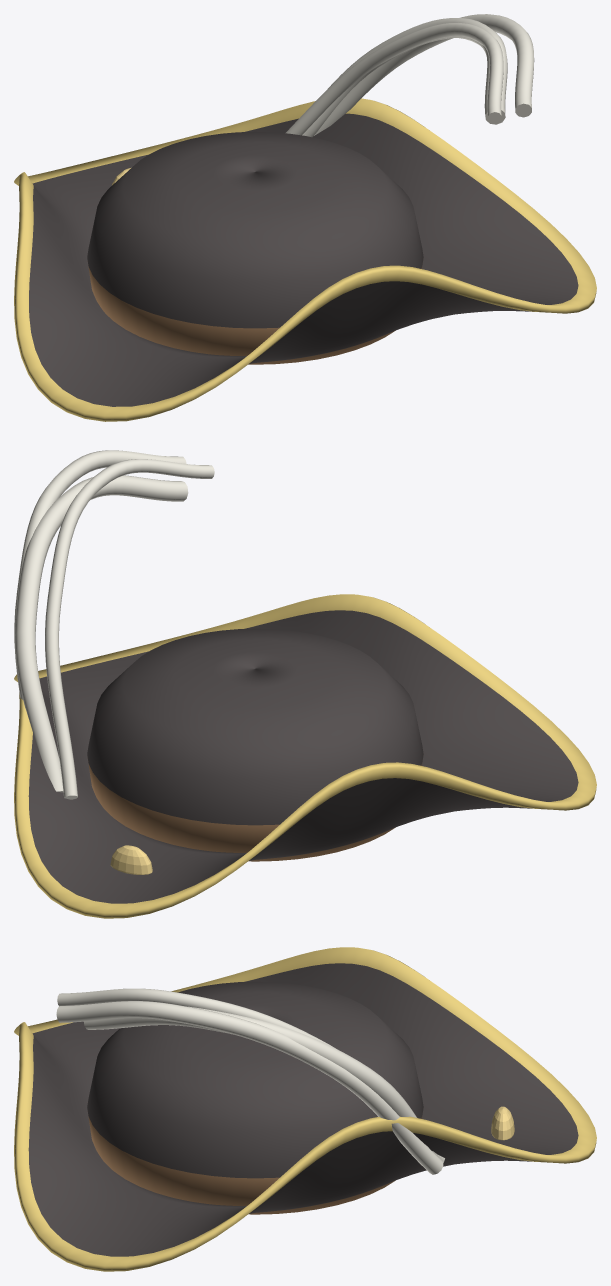
The model's file is dreispitz.glb.
3 views of the same model, one above another, from view 1: azimuth 30°, elevation 25°; view 2: azimuth 150°, elevation 25°; view 3: azimuth 270°, elevation 25° (orthographic).
Visible parts, largest first — view 1: G_dreispitz; view 2: G_dreispitz; view 3: G_dreispitz.
Part boxes in pixels (left/top/right/bottom): G_dreispitz: left=14, top=14, right=596, bottom=421; G_dreispitz: left=14, top=450, right=596, bottom=918; G_dreispitz: left=14, top=947, right=596, bottom=1271.
Bounding box in the file's own units: 0.4486 × 0.2018 × 0.4192.
